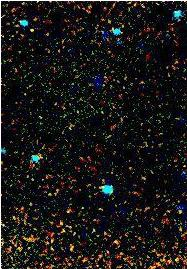star: (13, 15, 43, 45)
